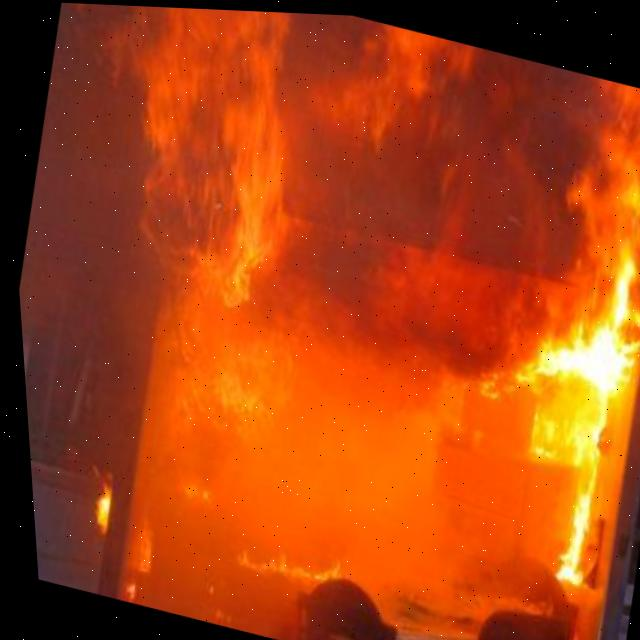fire: (57, 2, 640, 640)
smoke: (163, 10, 606, 433), (15, 2, 156, 596)
